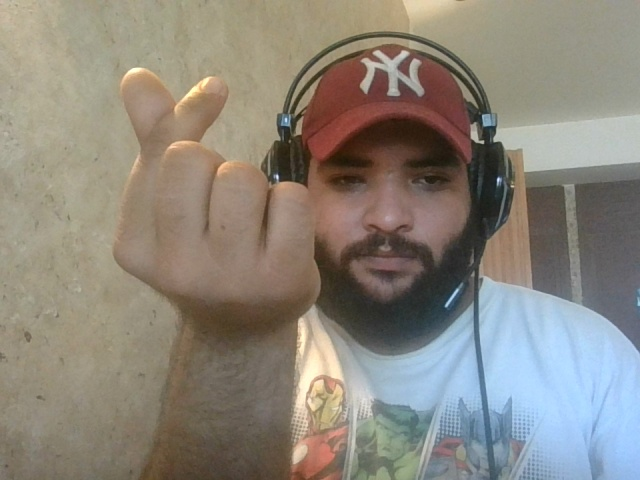iloveyou: (107, 62, 330, 322)
